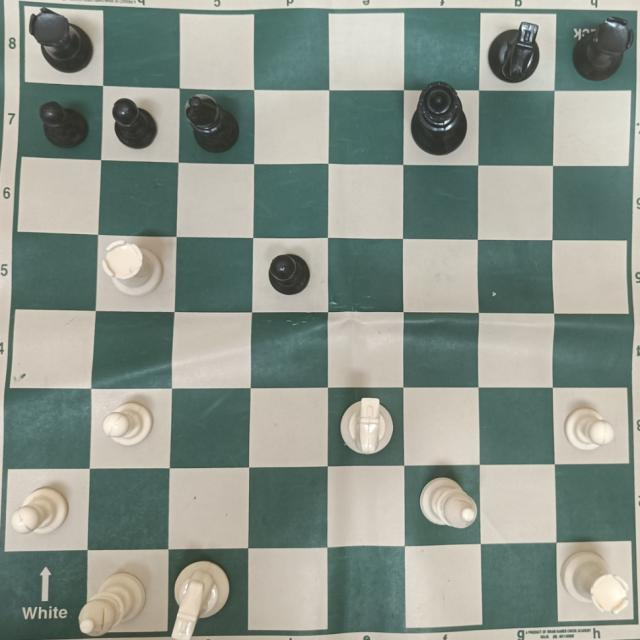black-bishop: (187, 94, 240, 154)
black-knight: (488, 23, 544, 83)
black-pawn: (114, 99, 158, 150), (41, 100, 88, 147), (268, 253, 310, 295)
black-queen: (412, 83, 469, 154)
black-rook: (27, 8, 95, 74), (572, 19, 632, 82)
white-bishop: (81, 571, 148, 636), (419, 478, 478, 528)
white-knight: (176, 562, 230, 638), (338, 397, 395, 456)
white-pawn: (13, 486, 70, 540), (103, 400, 155, 445), (565, 405, 615, 449)
white-rook: (563, 551, 630, 617), (102, 240, 163, 295)
